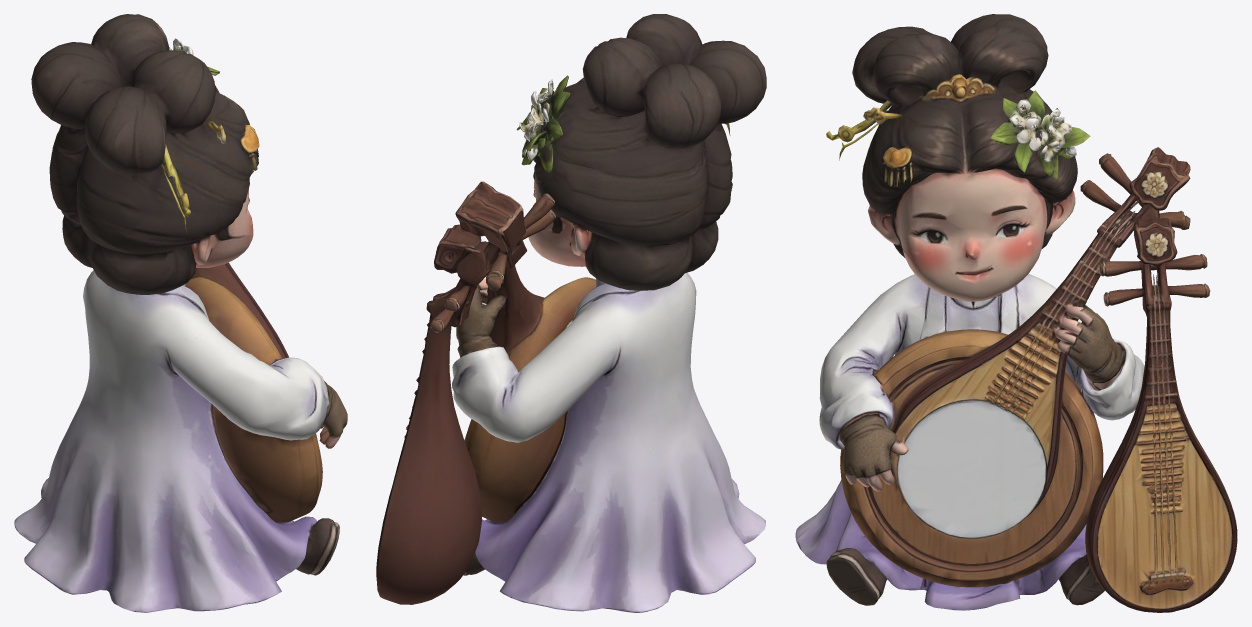
File: n_w17_ming_pipa.glb
3 views of the same model, side by side, from view 1: azimuth 30°, elevation 25°; view 2: azimuth 150°, elevation 25°; view 3: azimuth 270°, elevation 25° (orthographic). The views are drawn at different scales.
Parts seen in each view (by area): view 1: tripo_node_f337ebfd-9d27-40dd-acf6-28d685a6a73f; view 2: tripo_node_f337ebfd-9d27-40dd-acf6-28d685a6a73f; view 3: tripo_node_f337ebfd-9d27-40dd-acf6-28d685a6a73f.
Part boxes in pixels (<box>): tripo_node_f337ebfd-9d27-40dd-acf6-28d685a6a73f: <box>14,14,347,612</box>; tripo_node_f337ebfd-9d27-40dd-acf6-28d685a6a73f: <box>376,14,766,612</box>; tripo_node_f337ebfd-9d27-40dd-acf6-28d685a6a73f: <box>795,14,1237,612</box>.
Bounding box in the file's own units: 0.4927 × 0.9796 × 0.753.
1 material, 1 textured.
